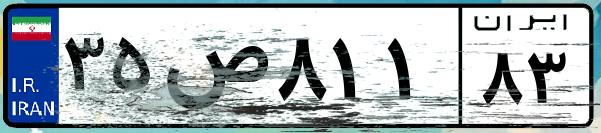1: (385, 28, 445, 110), (330, 28, 385, 110)
3: (57, 26, 110, 100), (525, 38, 570, 115)
5: (110, 28, 158, 98)
8: (270, 28, 330, 110), (475, 38, 525, 113)
ص: (158, 20, 270, 120)
